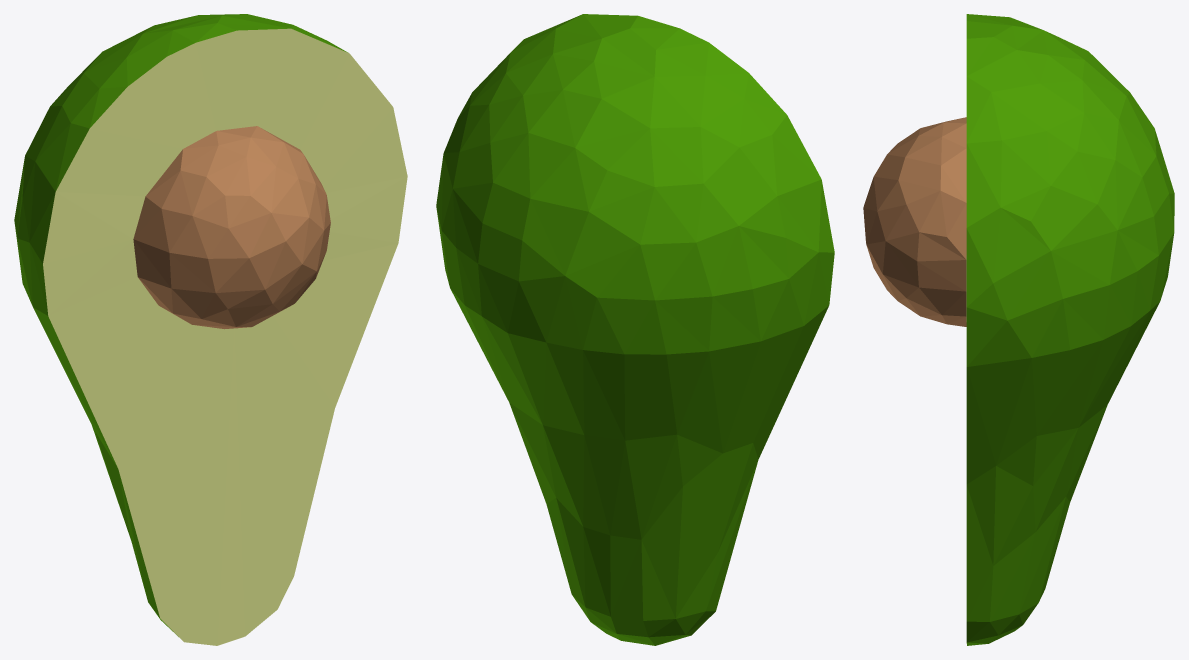
3 renders of one model, left to right at view 1: azimuth 30°, elevation 25°; view 2: azimuth 150°, elevation 25°; view 3: azimuth 270°, elevation 25°, orthographic. The views are drawn at different scales.
Parts seen in each view (by area): view 1: 零件6; view 2: 零件6; view 3: 零件6.
Boxes of the visible parts, x1,y1,x2,y2 form: 零件6: [14, 14, 407, 645]; 零件6: [436, 14, 834, 645]; 零件6: [863, 14, 1174, 645].
Size of the model in its own units: 5002 by 8002 by 3729.
